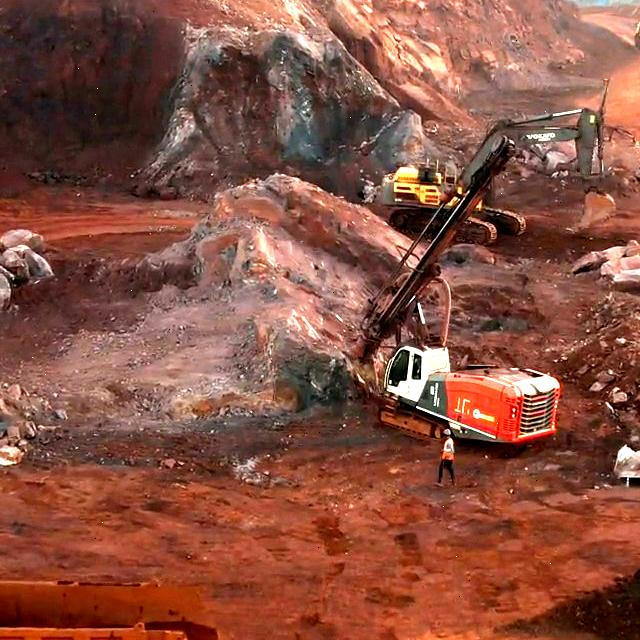Blast rig: (393, 339, 557, 424)
Excavator: (382, 160, 531, 240)
person: (441, 433, 456, 484)
